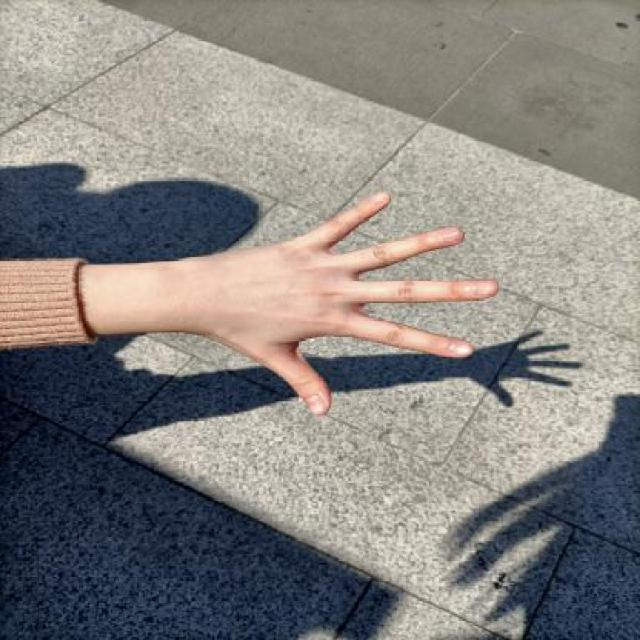bare_hand: (160, 179, 508, 421)
